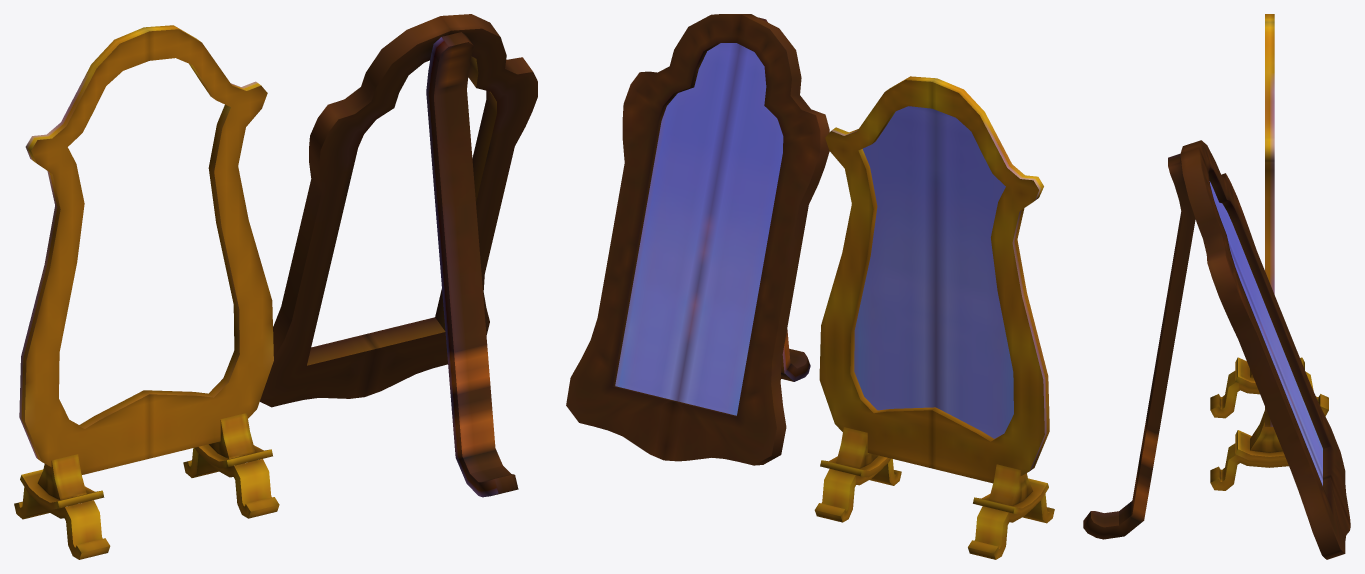
File: Mirror2.gltf
3 renders of one model, left to right at view 1: azimuth 30°, elevation 25°; view 2: azimuth 150°, elevation 25°; view 3: azimuth 270°, elevation 25°, orthographic. The views are drawn at different scales.
Visible parts, largest first — view 1: Mirror2; view 2: Mirror2; view 3: Mirror2.
Boxes of the visible parts, x1,y1,x2,y2 form: Mirror2: [14, 14, 537, 559]; Mirror2: [566, 14, 1054, 559]; Mirror2: [1083, 14, 1350, 559].
Size of the model in its own units: 105 by 98.83 by 56.24.
1 material, 1 textured.
